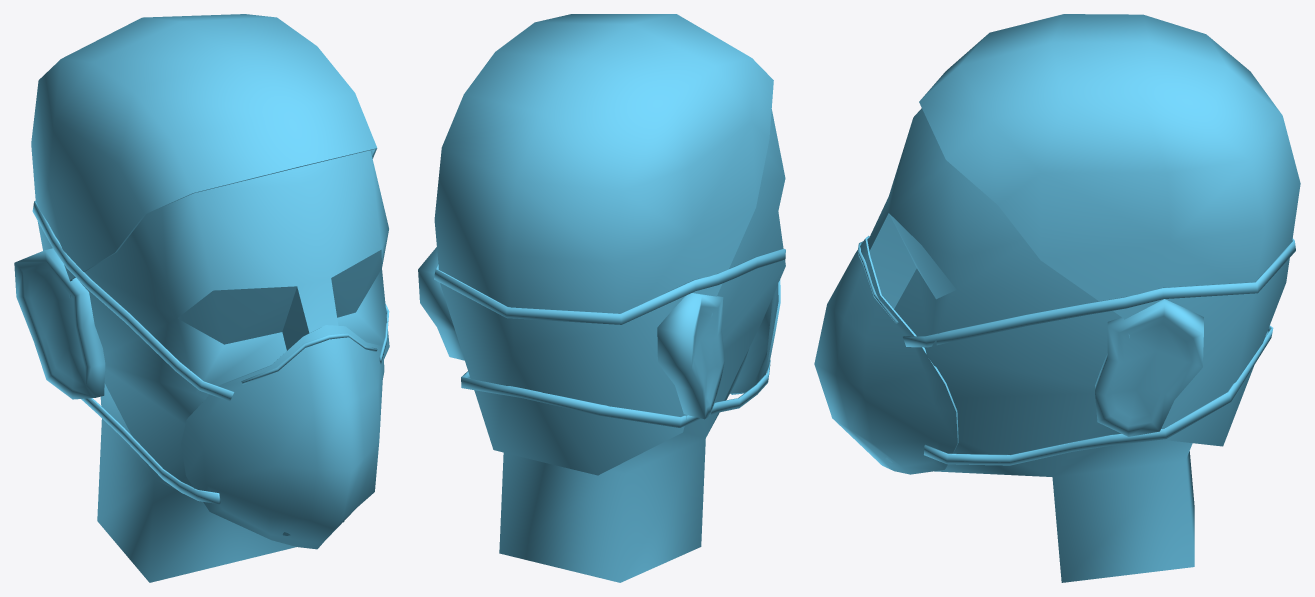
The model's file is headMaskMale_Good.FBX.
The picture shows the model from 3 angles, left to right: view 1: azimuth 30°, elevation 25°; view 2: azimuth 150°, elevation 25°; view 3: azimuth 270°, elevation 25°; orthographic projection. The views are drawn at different scales.
Visible parts, largest first — view 1: head, hair2, maskN95_onHead, ear, strapGoodTop, strapGoodBottomMale, nosePincherOn Face; view 2: hair2, head, ear, strapGoodTop, strapGoodBottomMale, maskN95_onHead; view 3: hair2, head, maskN95_onHead, ear, strapGoodTop, strapGoodBottomMale.
Boxes of the visible parts, <box> form: head: <box>80,150,389,582</box>; hair2: <box>31,14,377,297</box>; maskN95_onHead: <box>181,325,384,549</box>; ear: <box>14,248,105,399</box>; strapGoodTop: <box>32,201,389,401</box>; strapGoodBottomMale: <box>81,398,220,504</box>; nosePincherOn Face: <box>241,333,377,384</box>; hair2: <box>434,14,773,475</box>; head: <box>499,109,785,582</box>; ear: <box>418,247,724,419</box>; strapGoodTop: <box>434,248,785,324</box>; strapGoodBottomMale: <box>461,360,770,427</box>; maskN95_onHead: <box>730,280,780,394</box>; hair2: <box>919,14,1300,446</box>; head: <box>867,108,1194,582</box>; maskN95_onHead: <box>814,235,958,474</box>; ear: <box>1095,299,1203,436</box>; strapGoodTop: <box>903,238,1295,347</box>; strapGoodBottomMale: <box>924,325,1273,465</box>.
Bounding box in the file's own units: 14.19 × 24.71 × 21.64.
